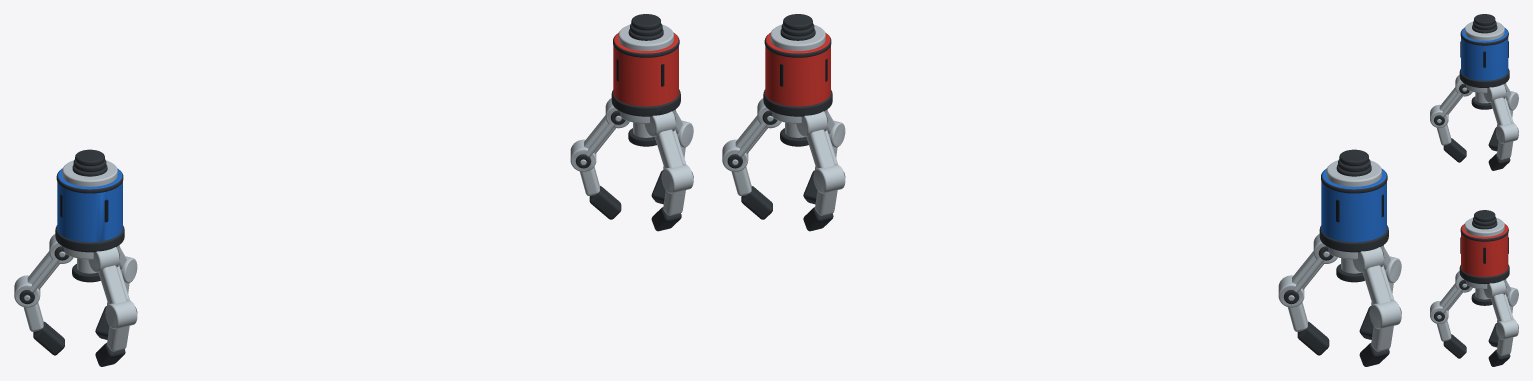
Rendered from clawhands.glb.
3 views of the same model, side by side, from view 1: azimuth 30°, elevation 25°; view 2: azimuth 150°, elevation 25°; view 3: azimuth 270°, elevation 25° (orthographic). The views are drawn at different scales.
Visible parts, largest first — view 1: HandL, HandR, JawL0, JawR0, JawR2, JawL2, JawL1, JawR1; view 2: HandR, HandL, JawR2, JawL2, JawL1, JawR1, JawR0, JawL0; view 3: HandL, HandR, JawR1, JawL1, JawL0, JawR0, JawL2, JawR2.
Part boxes in pixels (x1,y1,x2,y2): HandL: [29, 149, 129, 299]; HandR: [585, 14, 686, 164]; JawL0: [88, 247, 137, 366]; JawR0: [644, 111, 693, 231]; JawR2: [570, 98, 629, 219]; JawL2: [14, 234, 73, 355]; JawL1: [95, 247, 137, 339]; JawR1: [651, 111, 693, 204]; HandR: [737, 14, 837, 164]; HandL: [1293, 149, 1393, 299]; JawR2: [796, 111, 845, 231]; JawL2: [1352, 247, 1401, 366]; JawL1: [1278, 234, 1337, 355]; JawR1: [722, 98, 781, 219]; JawR0: [803, 111, 845, 204]; JawL0: [1359, 247, 1401, 339]; HandL: [1441, 14, 1513, 122]; HandR: [1441, 210, 1513, 318]; JawR1: [1483, 280, 1518, 366]; JawL1: [1483, 84, 1518, 170]; JawL0: [1430, 75, 1472, 162]; JawR0: [1430, 271, 1472, 358]; JawL2: [1488, 84, 1518, 151]; JawR2: [1488, 280, 1518, 347].
Size of the model in its own units: 5.37 by 1.49 by 0.844.
